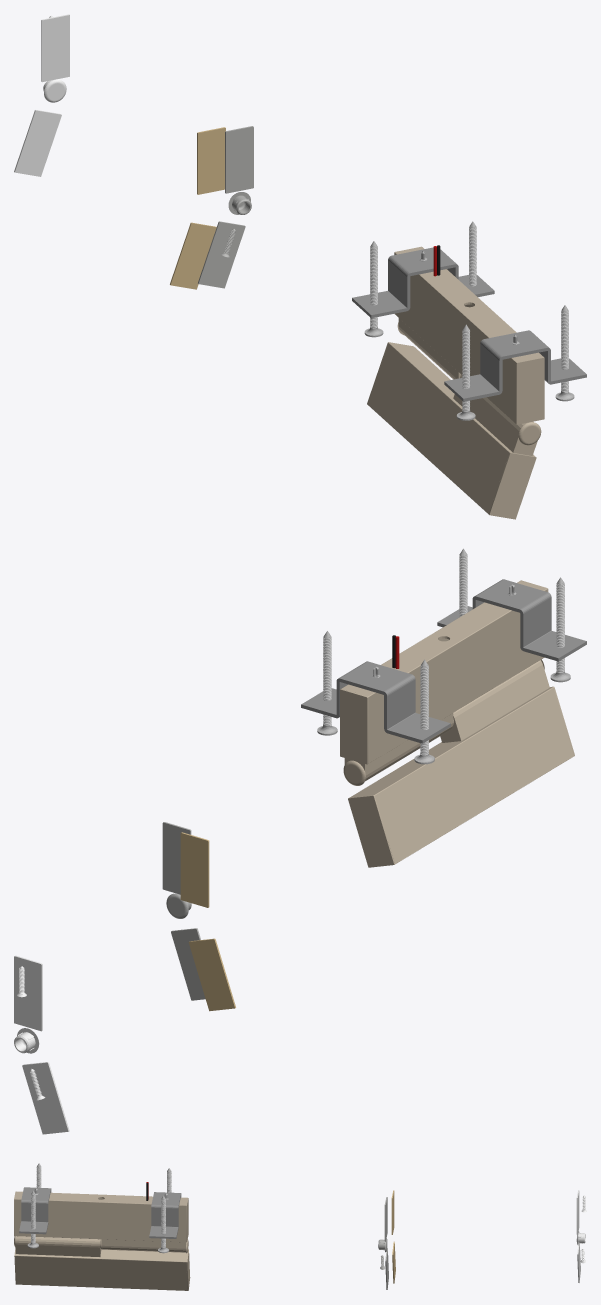
The model's file is NoFrameII-direcionavel.glb.
The picture shows the model from 3 angles, top to bottom: view 1: azimuth 30°, elevation 25°; view 2: azimuth 150°, elevation 25°; view 3: azimuth 270°, elevation 25°; orthographic projection. The views are drawn at different scales.
Visible parts, largest first — view 1: 3DGeom-2 (×8), 3DGeom-15, 3DGeom-29, 3DGeom-41 (×2), 3DGeom-24 (×2), 3DGeom-44 (×3); view 2: 3DGeom-15, 3DGeom-2 (×8), 3DGeom-29, 3DGeom-41 (×2), 3DGeom-24 (×2), 3DGeom-44 (×3); view 3: 3DGeom-15, 3DGeom-29, 3DGeom-24 (×2), 3DGeom-41 (×2), 3DGeom-44 (×2).
Part boxes in pixels (x1,y1,x2,y2): 3DGeom-2 (×8): [14, 14, 544, 519]; 3DGeom-15: [367, 342, 534, 513]; 3DGeom-29: [395, 247, 543, 423]; 3DGeom-41 (×2): [352, 247, 586, 401]; 3DGeom-24 (×2): [398, 318, 537, 455]; 3DGeom-44 (×3): [364, 241, 574, 420]; 3DGeom-15: [350, 687, 573, 863]; 3DGeom-2 (×8): [14, 689, 395, 1134]; 3DGeom-29: [341, 581, 546, 763]; 3DGeom-41 (×2): [301, 579, 586, 743]; 3DGeom-24 (×2): [344, 660, 549, 781]; 3DGeom-44 (×3): [317, 577, 570, 764]; 3DGeom-15: [15, 1249, 187, 1290]; 3DGeom-29: [15, 1191, 187, 1242]; 3DGeom-24 (×2): [15, 1236, 186, 1256]; 3DGeom-41 (×2): [19, 1187, 181, 1238]; 3DGeom-44 (×2): [27, 1191, 169, 1253].
Size of the model in its own units: 0.0699 by 0.0915 by 0.421.
